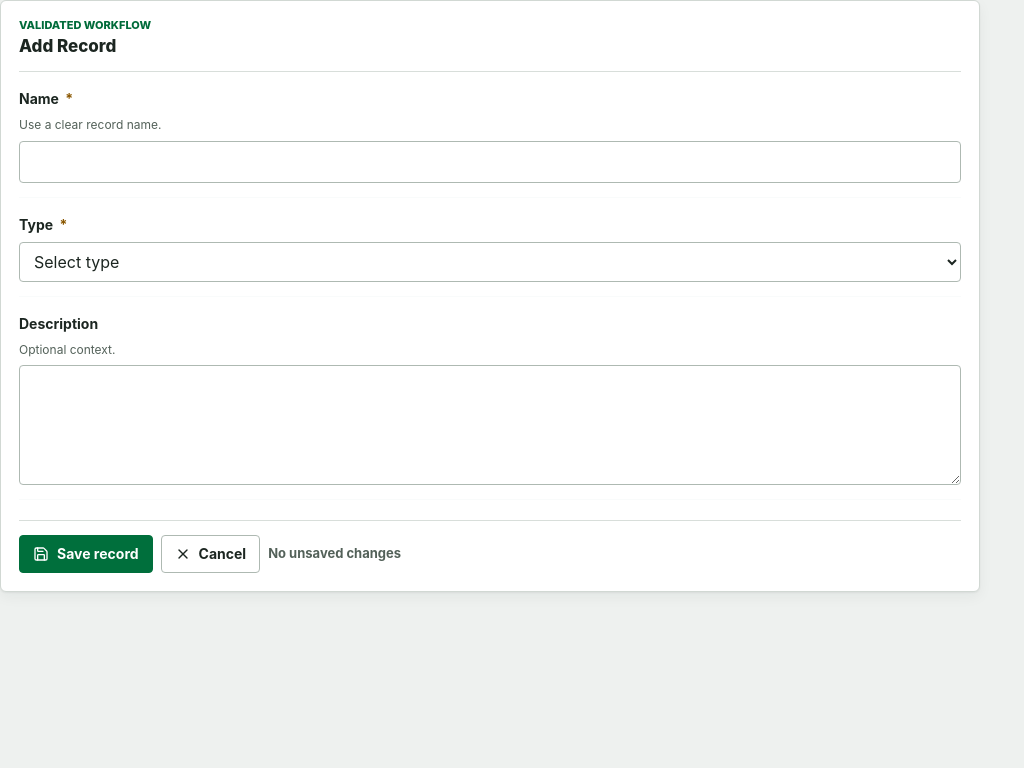
Test: RecordForm › renders labels, helper text, and validation messages
Check: the text "Use a clear record name." is shown, box [19,117,162,132]
Click the button "Save record" at (86, 554), box [19,535,153,573]
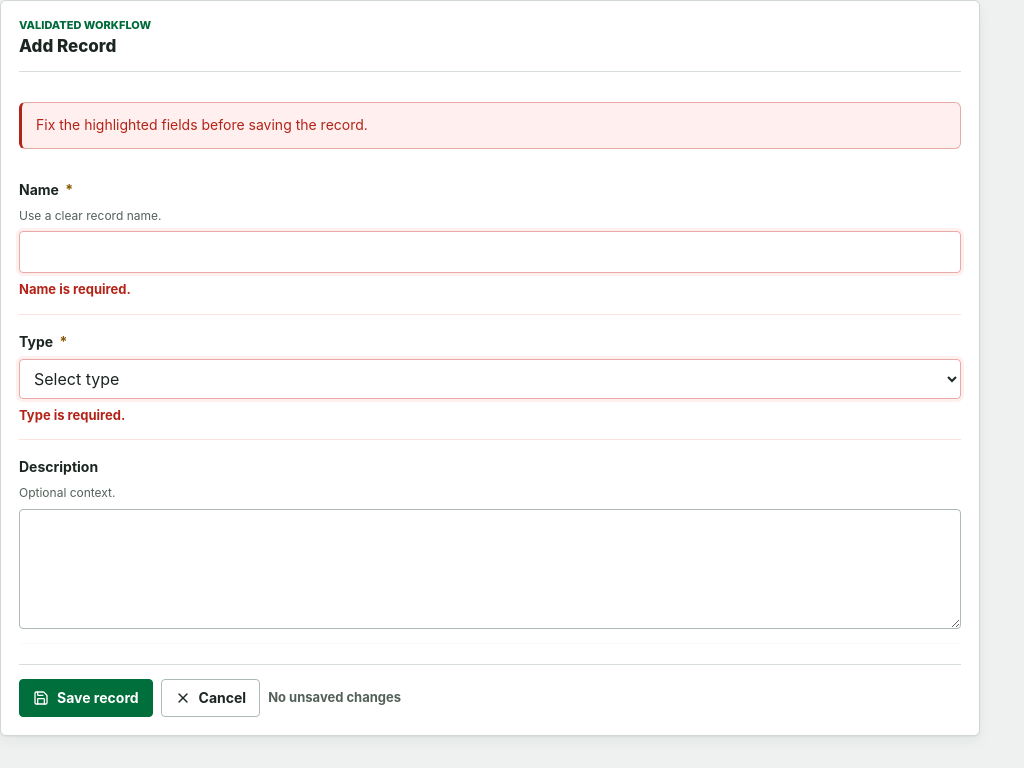
Check: the text "Fix the highlighted fields before saving the record." is shown, box [19,102,961,149]
Check: the text "Name is required." is shown, box [19,281,131,297]
Check: the text "Type is required." is shown, box [19,407,125,423]
